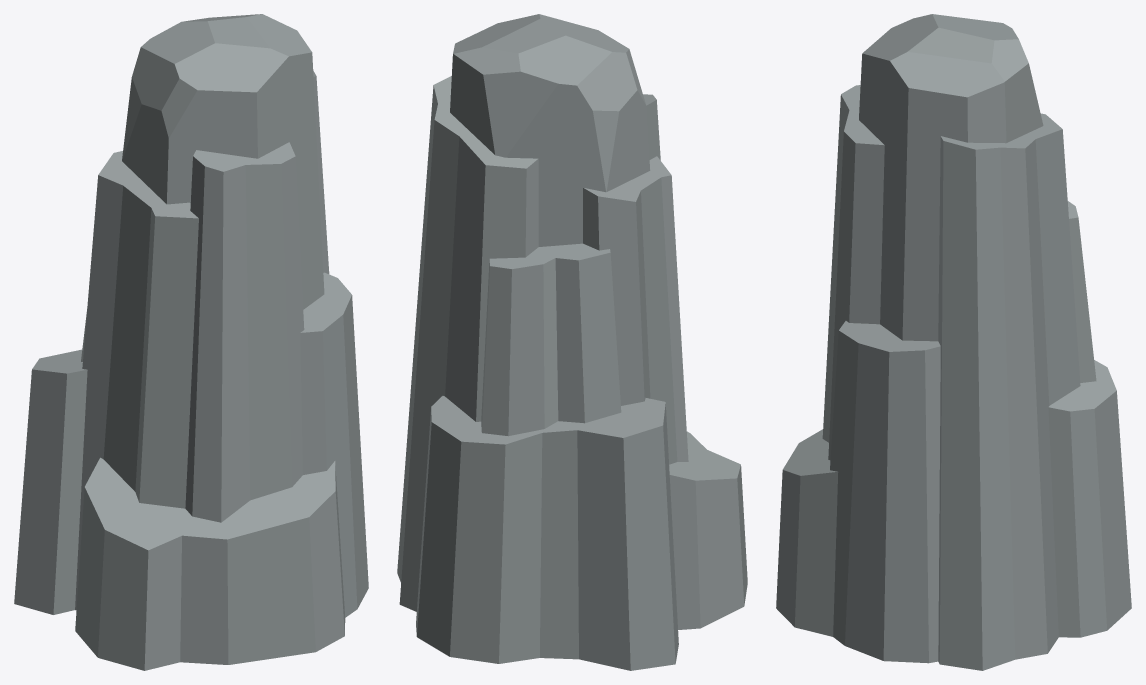
The model's file is NHP_Rock_Pillar_Round_A2_01.fbx.
The picture shows the model from 3 angles, left to right: view 1: azimuth 30°, elevation 25°; view 2: azimuth 150°, elevation 25°; view 3: azimuth 270°, elevation 25°; orthographic projection. The views are drawn at different scales.
Parts seen in each view (by area): view 1: NHP_Rock_Pillar_Round_A2_01; view 2: NHP_Rock_Pillar_Round_A2_01; view 3: NHP_Rock_Pillar_Round_A2_01.
Part boxes in pixels (x1=…): NHP_Rock_Pillar_Round_A2_01: x1=14, y1=14, x2=368, y2=670; NHP_Rock_Pillar_Round_A2_01: x1=397, y1=14, x2=747, y2=670; NHP_Rock_Pillar_Round_A2_01: x1=776, y1=14, x2=1131, y2=670.
Size of the model in its own units: 4.23 by 7.45 by 4.22.
